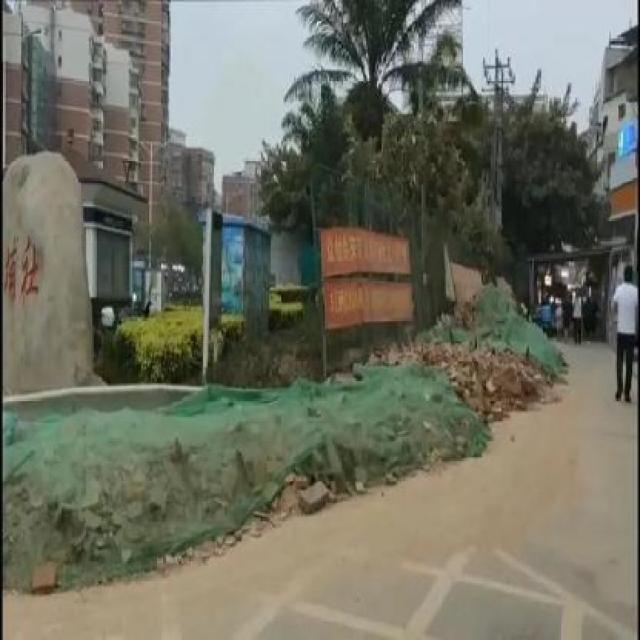garbage: (3, 284, 555, 588)
